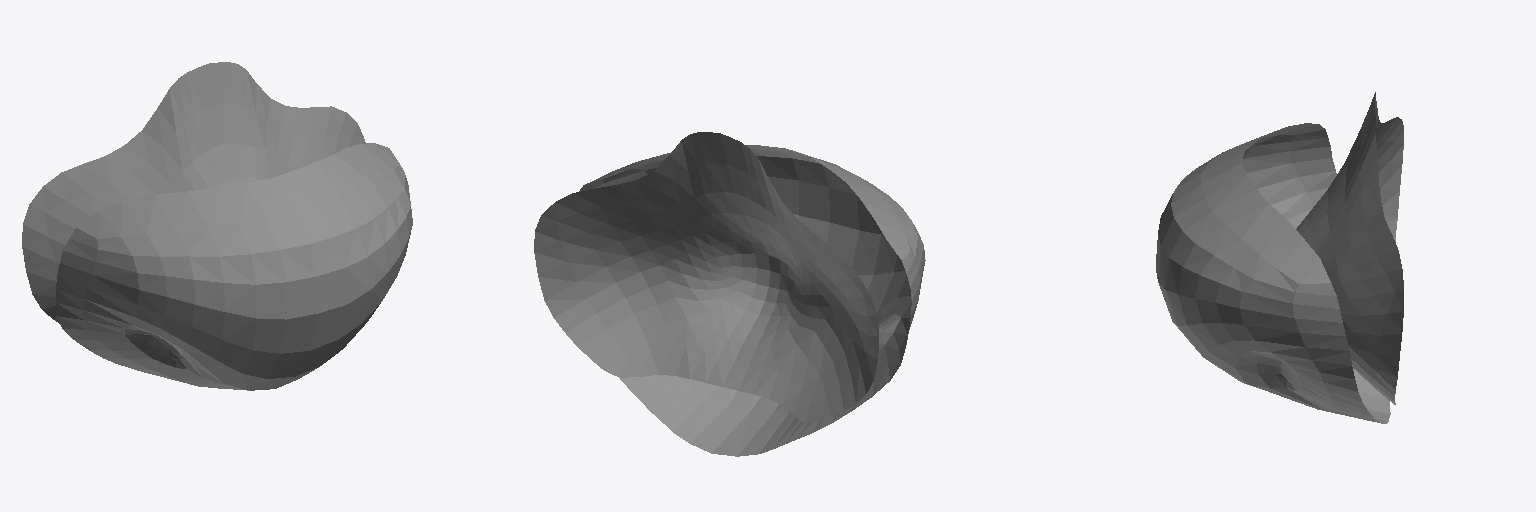
File: nose2.obj
3 views of the same model, side by side, from view 1: azimuth 30°, elevation 25°; view 2: azimuth 150°, elevation 25°; view 3: azimuth 270°, elevation 25° (orthographic).
Parts seen in each view (by area): view 1: nose_mesh_asset, asset_fur_mesh; view 2: asset_fur_mesh, nose_mesh_asset; view 3: nose_mesh_asset, asset_fur_mesh.
Part boxes in pixels (x1,y1,x2,y2): nose_mesh_asset: (56,143,412,390); asset_fur_mesh: (22,62,365,323); asset_fur_mesh: (534,132,878,422); nose_mesh_asset: (579,145,925,456); nose_mesh_asset: (1156,123,1390,423); asset_fur_mesh: (1296,92,1403,404).
Bounding box in the file's own units: 0.078 × 0.068 × 0.0487.